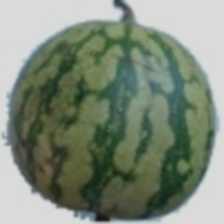watermelon: (38, 55, 214, 211)
